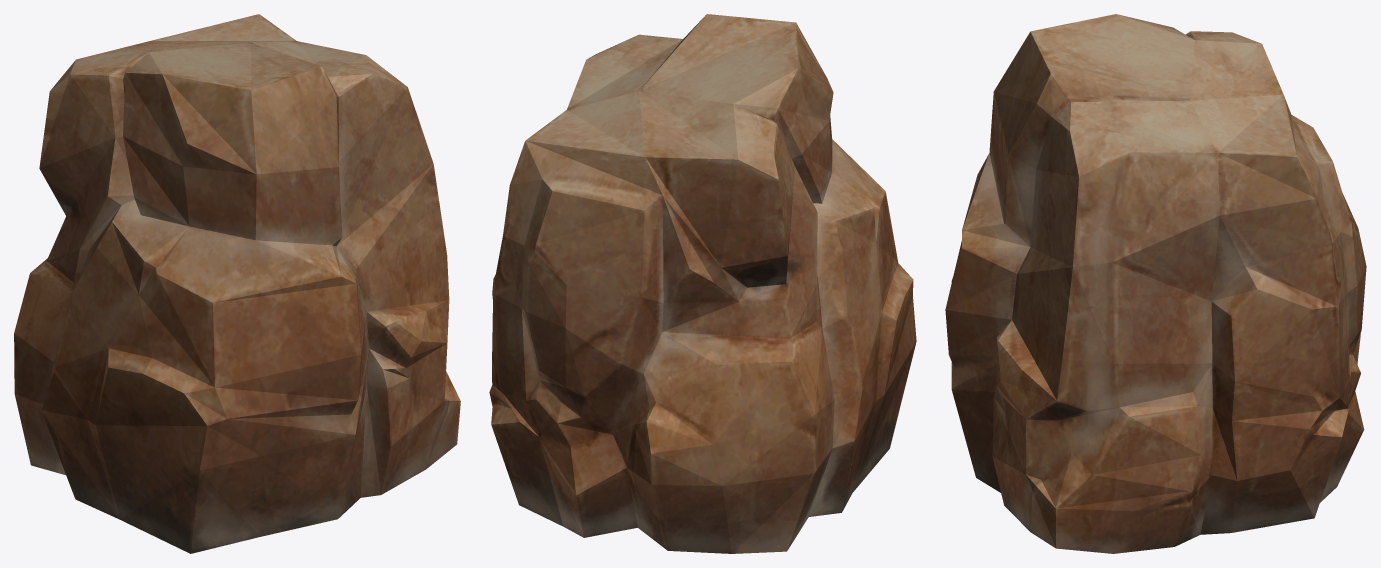
The model's file is Item_5008_shitou_shitou04.FBX.
3 renders of one model, left to right at view 1: azimuth 30°, elevation 25°; view 2: azimuth 150°, elevation 25°; view 3: azimuth 270°, elevation 25°, orthographic. The views are drawn at different scales.
Parts seen in each view (by area): view 1: Item_5008_shitou_shitou04; view 2: Item_5008_shitou_shitou04; view 3: Item_5008_shitou_shitou04.
Part boxes in pixels (x1=…): Item_5008_shitou_shitou04: x1=14, y1=14, x2=460, y2=553; Item_5008_shitou_shitou04: x1=489, y1=14, x2=916, y2=553; Item_5008_shitou_shitou04: x1=945, y1=14, x2=1366, y2=553.
Size of the model in its own units: 504 by 585 by 521.
